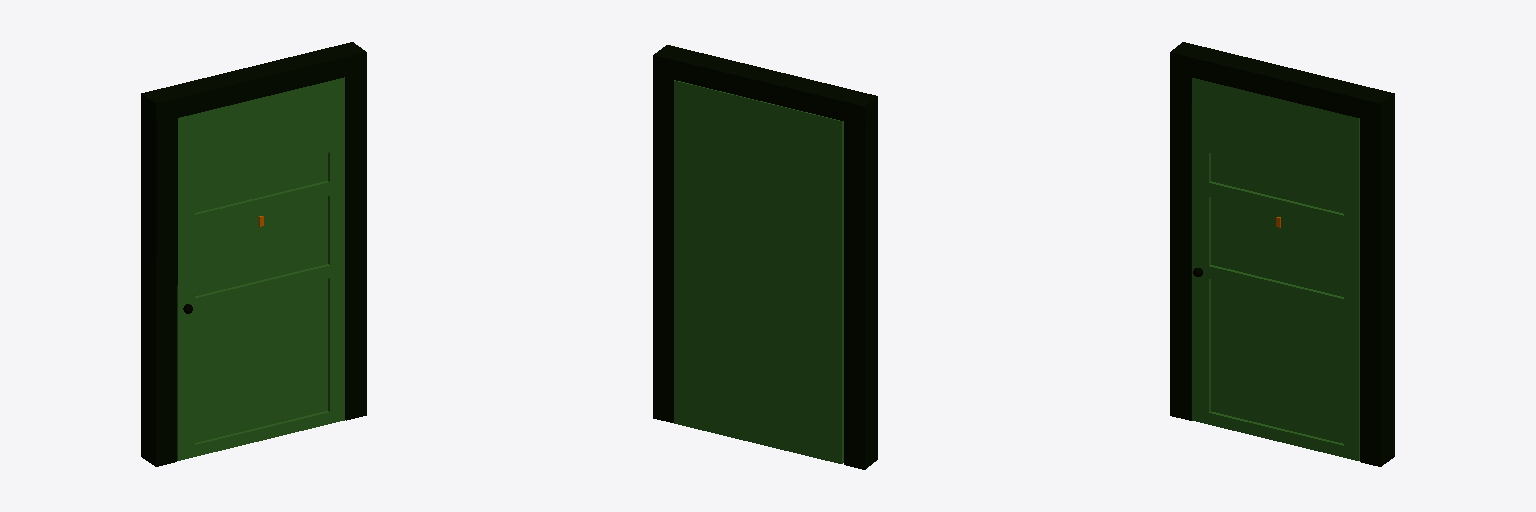
The model's file is Door.obj.
3 views of the same model, side by side, from view 1: azimuth 30°, elevation 25°; view 2: azimuth 150°, elevation 25°; view 3: azimuth 330°, elevation 25° (orthographic).
Visible parts, largest first — view 1: Cube.001_Cube.003, Cube_Cube.002; view 2: Cube.001_Cube.003, Cube_Cube.002; view 3: Cube.001_Cube.003, Cube_Cube.002.
Part boxes in pixels (bbox=[...]): Cube.001_Cube.003: bbox=[177, 77, 344, 460]; Cube_Cube.002: bbox=[141, 42, 366, 466]; Cube.001_Cube.003: bbox=[674, 80, 843, 463]; Cube_Cube.002: bbox=[653, 45, 877, 469]; Cube.001_Cube.003: bbox=[1192, 78, 1359, 460]; Cube_Cube.002: bbox=[1170, 42, 1394, 466].
Bounding box in the file's own units: 2.05 × 3.38 × 0.3167.